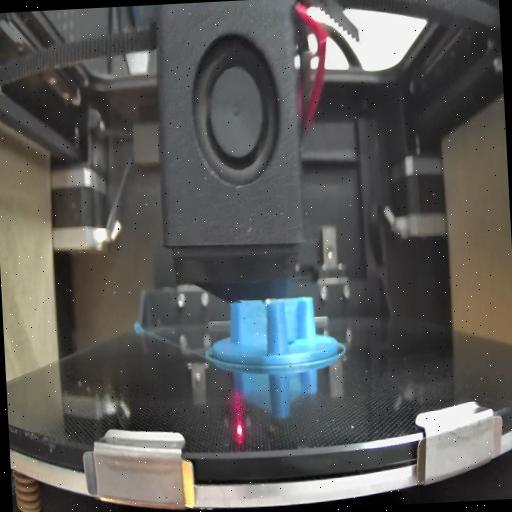stringing: (237, 304, 267, 352), (286, 297, 300, 347)
